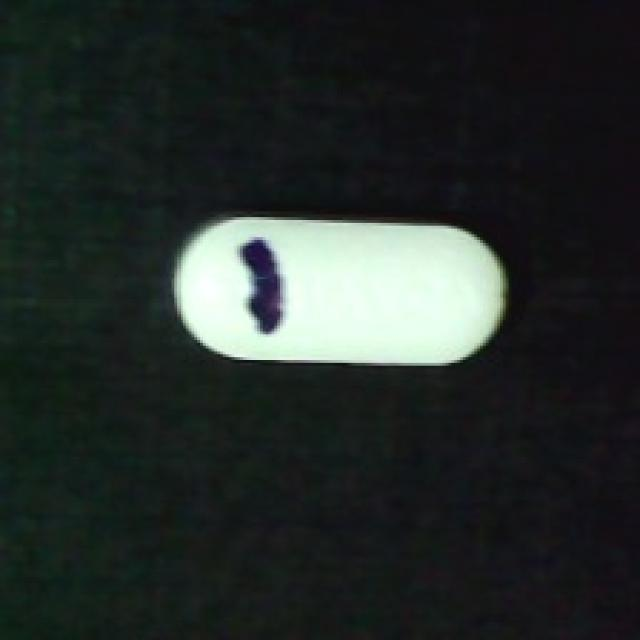defected: (163, 206, 511, 380)
